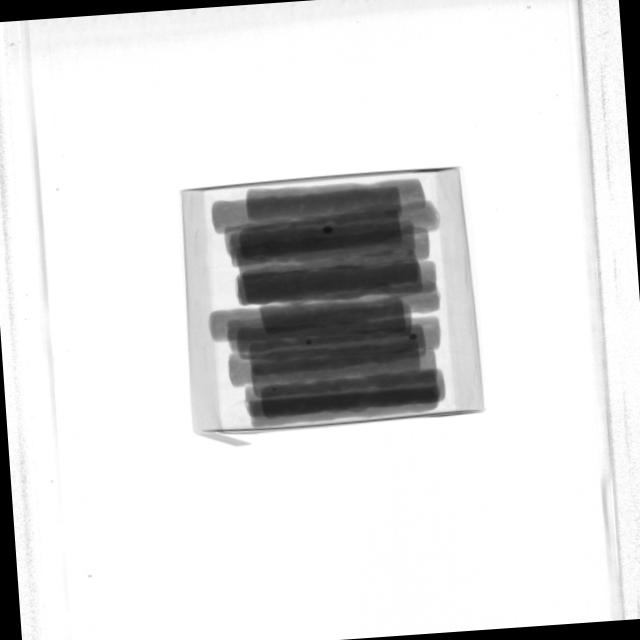ym: (322, 225, 334, 235), (410, 333, 418, 340), (306, 340, 312, 345), (271, 387, 276, 391)
